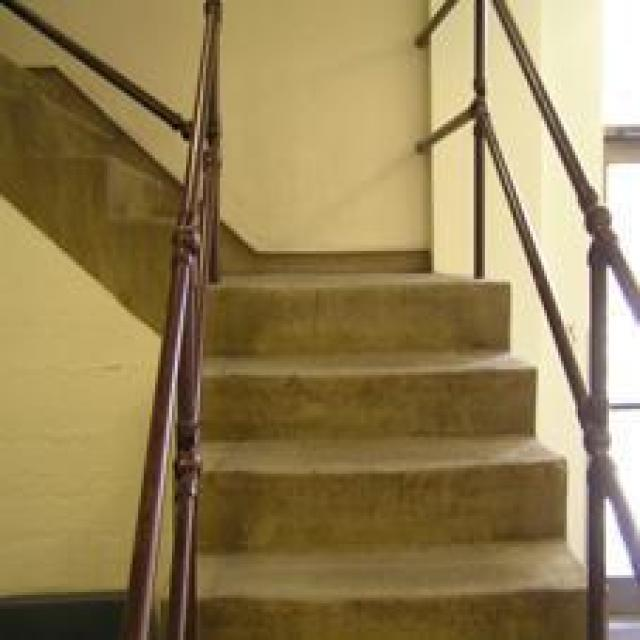upstair: (165, 255, 605, 503)
